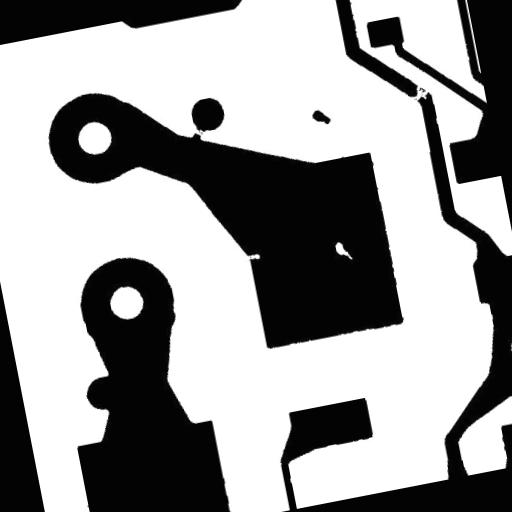copper: (302, 99, 340, 135)
mousebite: (236, 244, 269, 270)
open: (397, 74, 438, 114), (182, 118, 214, 148)
pin-hole: (326, 231, 362, 270)
